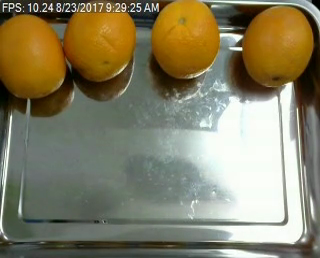Orange: (63, 2, 137, 82), (242, 5, 313, 87), (1, 13, 67, 98), (151, 1, 220, 79)
